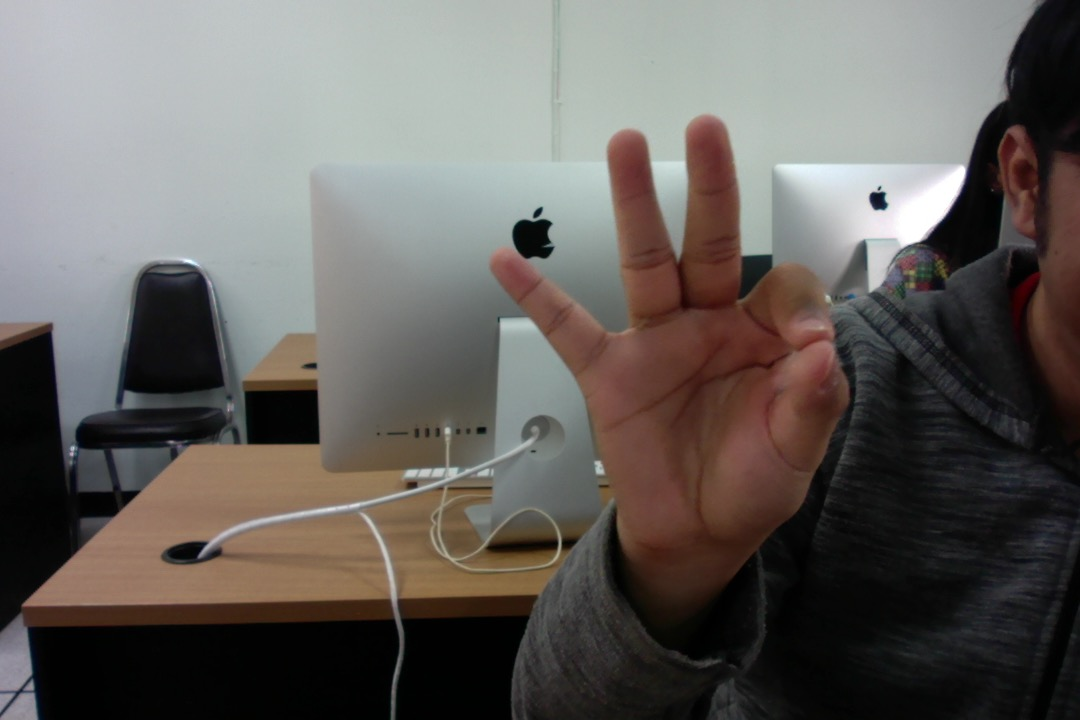for: (446, 107, 872, 650)
